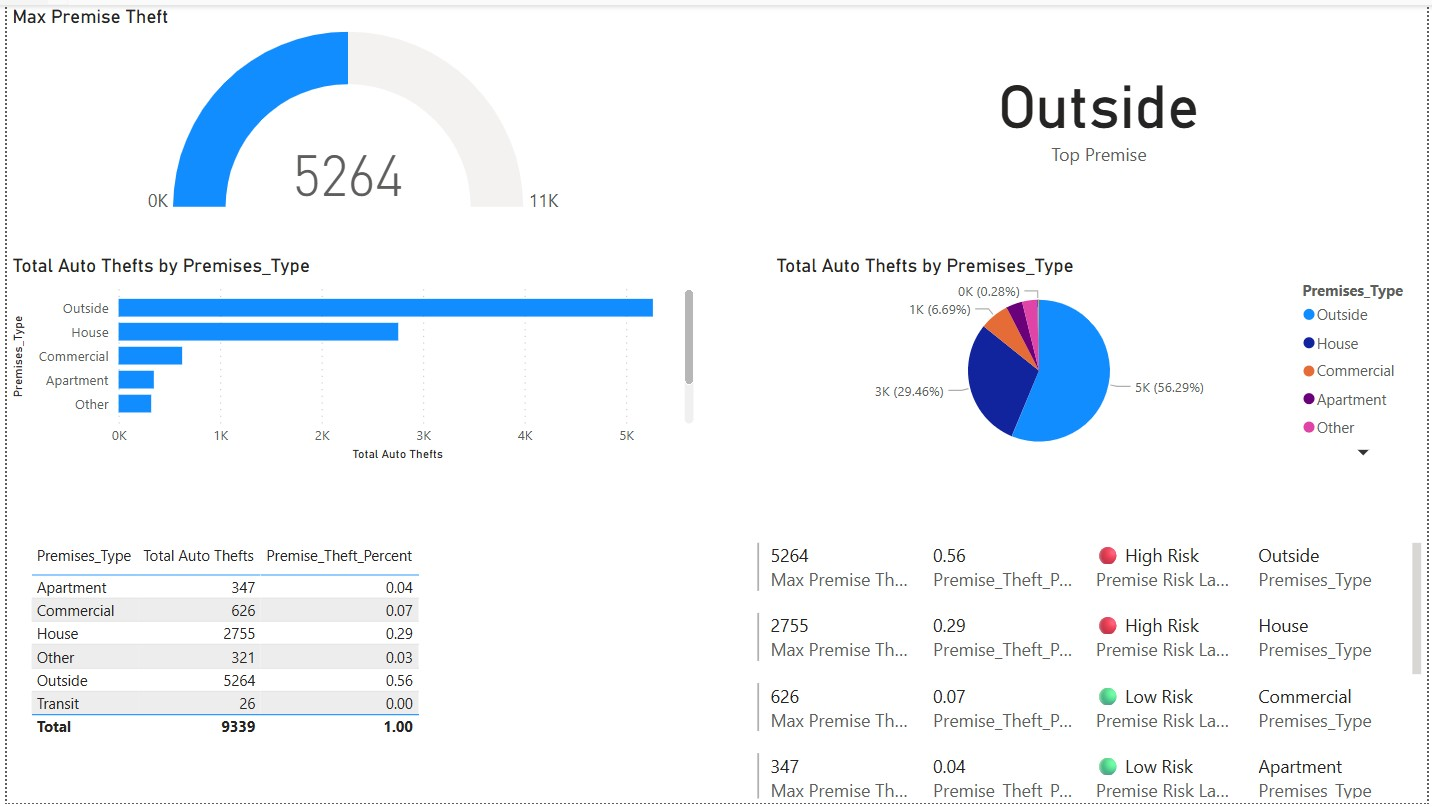

The page's visual inventory and layout, read from the dashboard file:
{"tool":"powerbi","page":{"name":"How do car theft rates vary across different types of premises, and which locations are most vulnerable?","canvas":[1280,720],"ordinal":1},"visuals":[{"type":"gauge","fields":{"Y":["Autotheft2024.Max Premise Theft"]},"box":[0,0,624,192],"z":0},{"type":"card","fields":{"Values":["Autotheft2024.Top Premise"]},"box":[688,0,592,192],"z":1000},{"type":"barChart","fields":{"Y":["Autotheft2024.Total Auto Thefts"],"Category":["Dim_Location.Premises_Type"]},"box":[0,224,624,192],"z":2000},{"type":"pieChart","fields":{"Y":["Autotheft2024.Total Auto Thefts"],"Category":["Dim_Location.Premises_Type"]},"box":[688,224,592,192],"z":3000},{"type":"tableEx","fields":{"Values":["Dim_Location.Premises_Type","Autotheft2024.Total Auto Thefts","Autotheft2024.Premise_Theft_Percent"]},"box":[16,480,608,240],"z":4000},{"type":"multiRowCard","fields":{"Values":["Autotheft2024.Max Premise Theft","Autotheft2024.Premise_Theft_Percent","Autotheft2024.Premise Risk Label","Dim_Location.Premises_Type"]},"box":[672,480,608,240],"z":5000}]}

Visuals, with their boxes in screenshot pixels (x1, y1, x2, y2), scaled from the page's 1280x720 canvas onto the 1432x807 screenshot:
gauge - Autotheft2024.Max Premise Theft: pyautogui.locateOnScreen(0, 0, 698, 215)
card - Autotheft2024.Top Premise: pyautogui.locateOnScreen(770, 0, 1431, 215)
barChart - Autotheft2024.Total Auto Thefts x Dim_Location.Premises_Type: pyautogui.locateOnScreen(0, 251, 698, 466)
pieChart - Autotheft2024.Total Auto Thefts x Dim_Location.Premises_Type: pyautogui.locateOnScreen(770, 251, 1431, 466)
tableEx - Dim_Location.Premises_Type x Autotheft2024.Total Auto Thefts: pyautogui.locateOnScreen(18, 538, 698, 806)
multiRowCard - Autotheft2024.Max Premise Theft x Autotheft2024.Premise_Theft_Percent: pyautogui.locateOnScreen(752, 538, 1431, 806)
